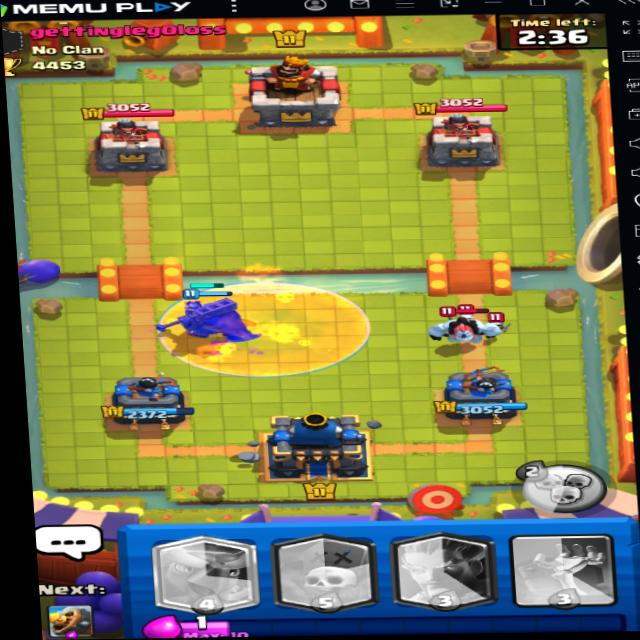ice-golem: (431, 308, 503, 345)
skeleton: (445, 302, 481, 321), (484, 312, 509, 331)
